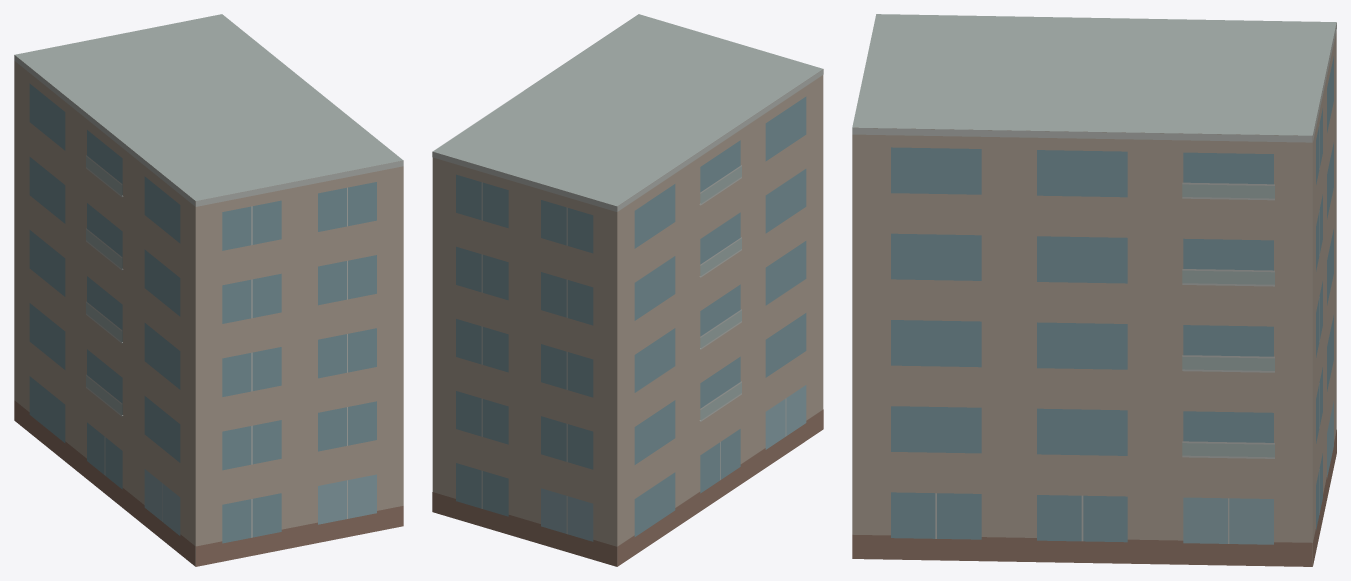
The model's file is survey-upis-32950469.glb.
3 views of the same model, side by side, from view 1: azimuth 30°, elevation 25°; view 2: azimuth 150°, elevation 25°; view 3: azimuth 270°, elevation 25° (orthographic). The views are drawn at different scales.
Visible parts, largest first — view 1: survey-upis-32950469.tmp; view 2: survey-upis-32950469.tmp; view 3: survey-upis-32950469.tmp.
Part boxes in pixels (bbox=[...]): survey-upis-32950469.tmp: bbox=[14, 14, 403, 566]; survey-upis-32950469.tmp: bbox=[432, 14, 823, 566]; survey-upis-32950469.tmp: bbox=[852, 14, 1336, 566].
Bounding box in the file's own units: 9.24 × 15.25 × 15.54.
